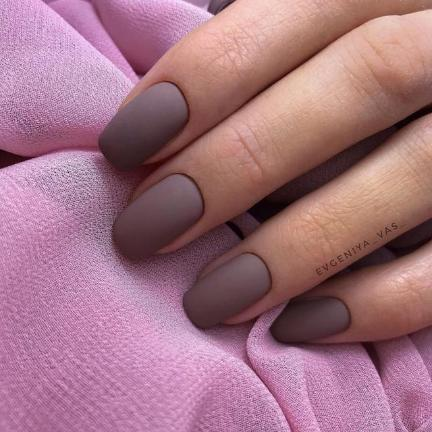Nail: (98, 81, 190, 171), (112, 173, 205, 261), (182, 253, 272, 329), (270, 296, 351, 344)
